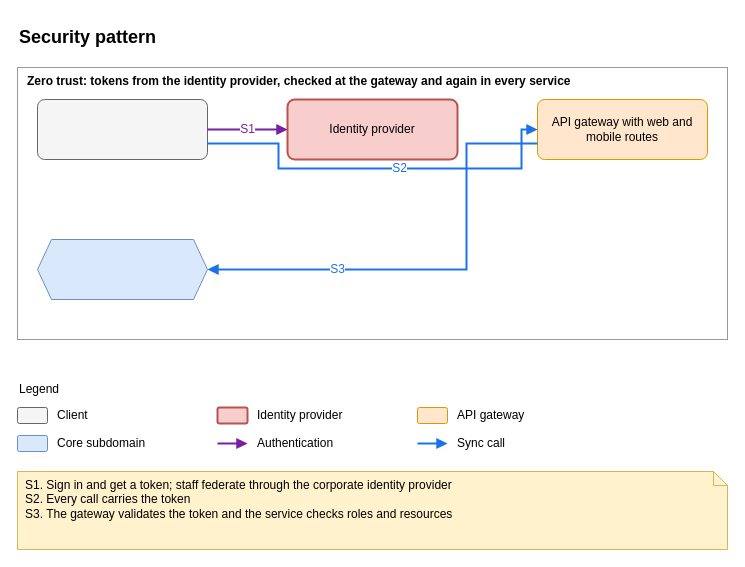
Some shapes in this 745 by 567 pixel diagram are drawn without their labels. Each missing label, with the centre of its shape:
Appointment service: pixel 122 269
Patient mobile app: pixel 122 129
